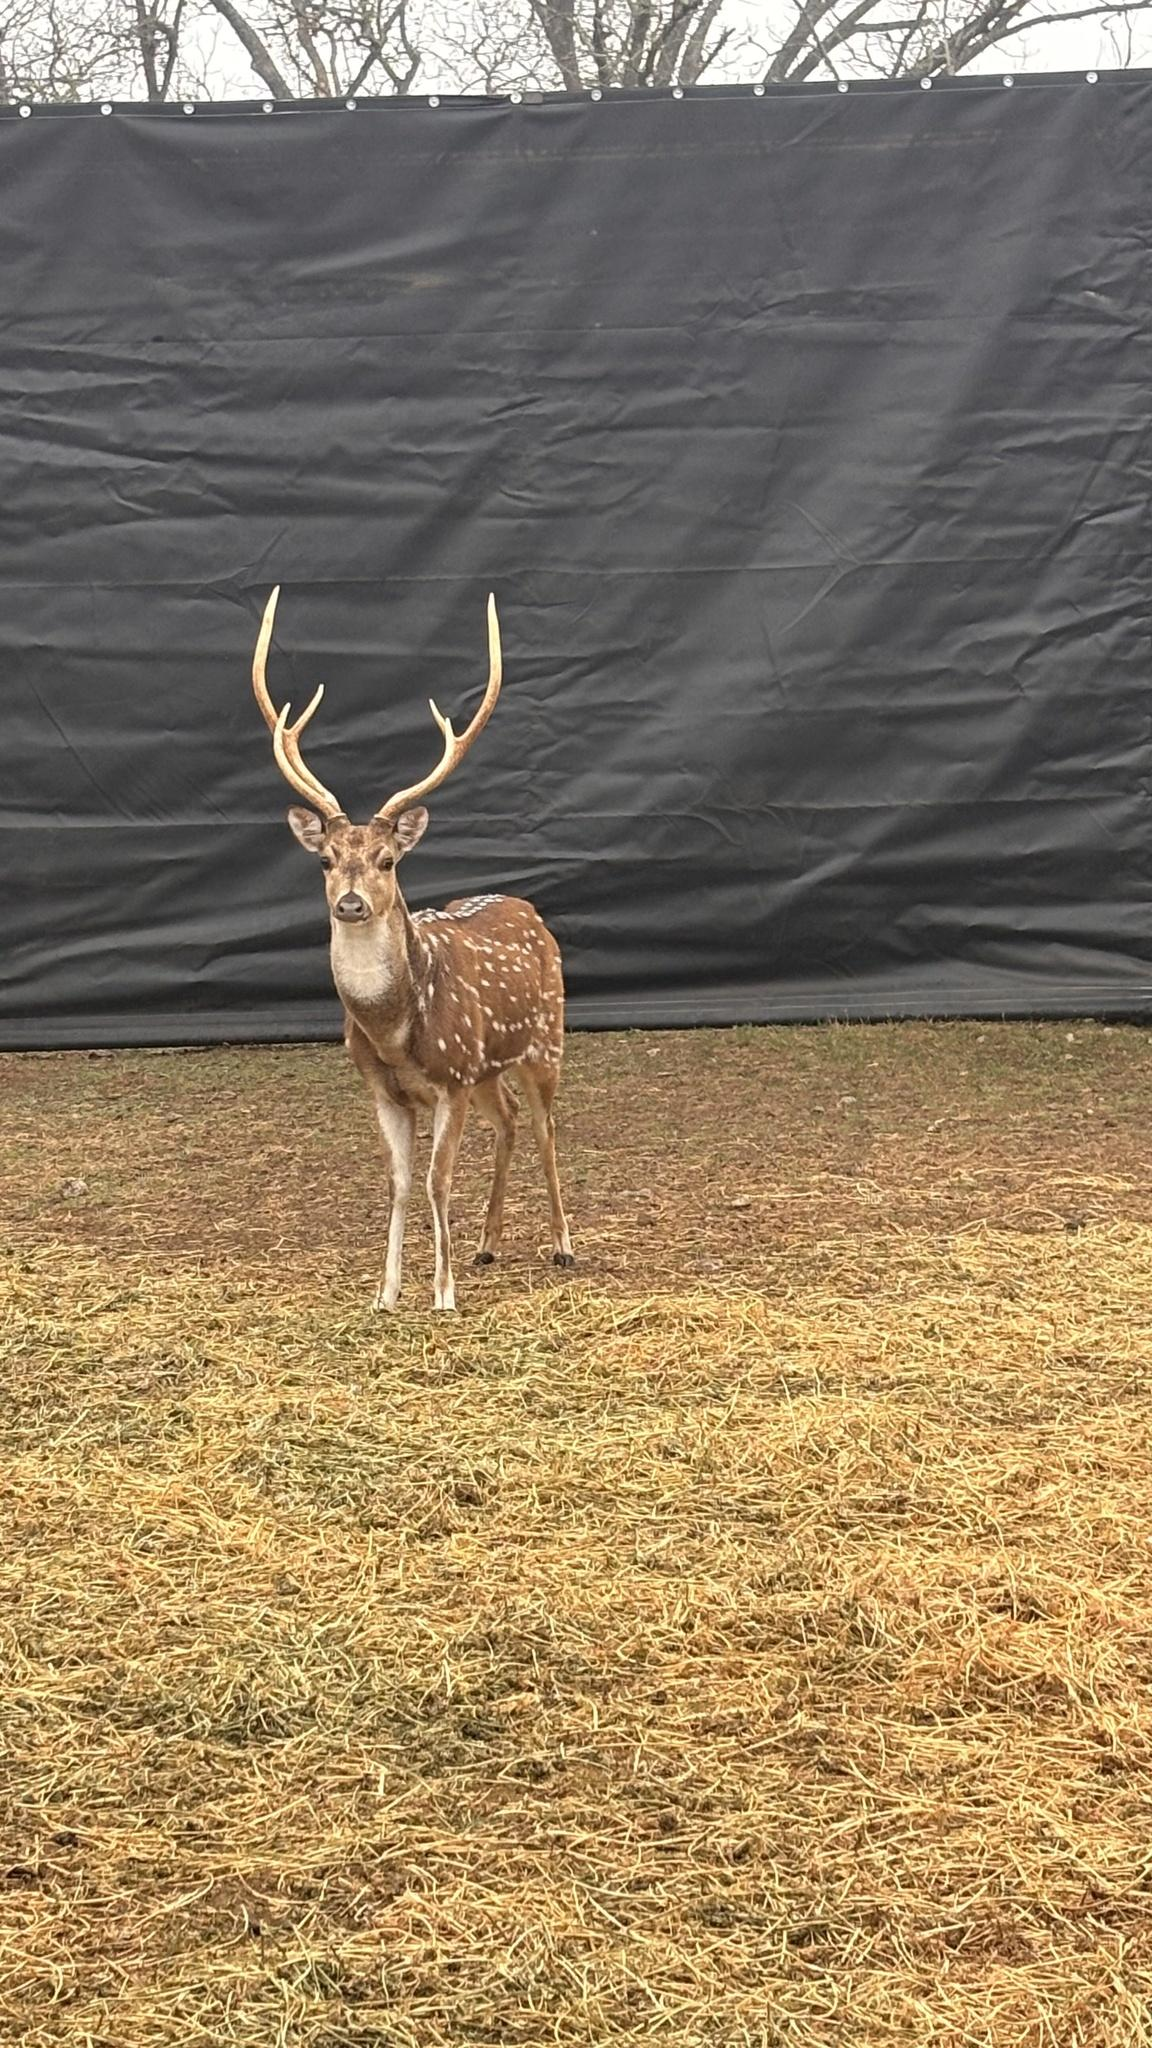Deer: (253, 588, 574, 1312)
